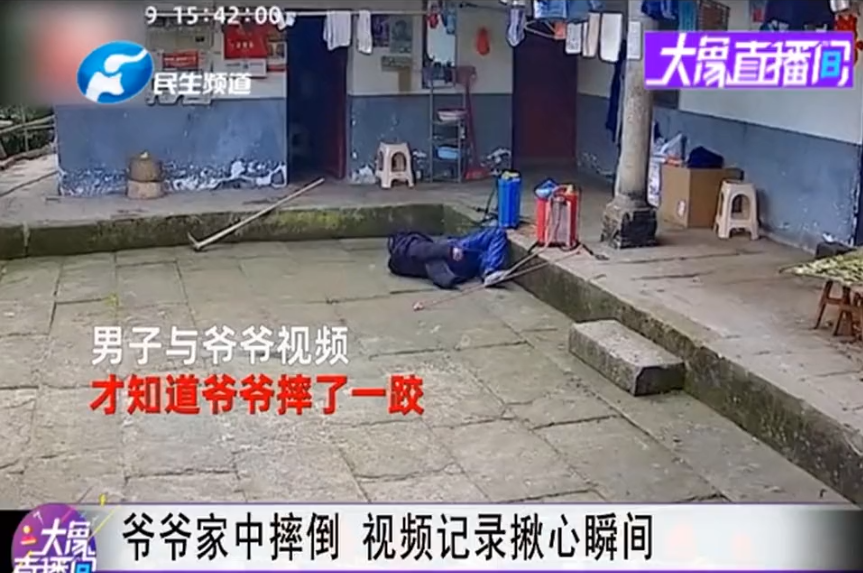fall: (381, 218, 515, 286)
